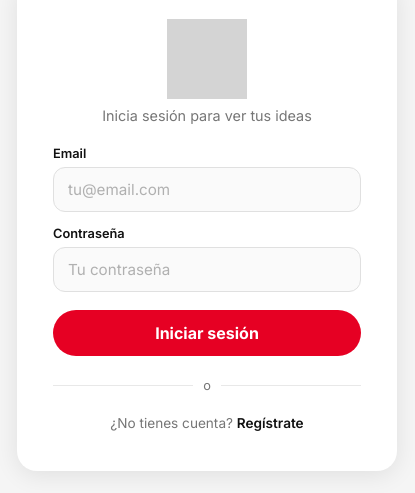
it: LoginForm › deshabilita el botón mientras loading es true
Type "test@example.com" into the field labelled "Email". click: (207, 190)
box: [53, 167, 361, 212]
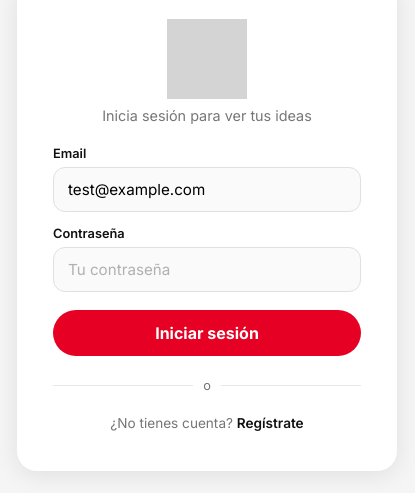
Type "password123" into the password field labelled "Contraseña". click: (207, 270)
box: [53, 247, 361, 292]
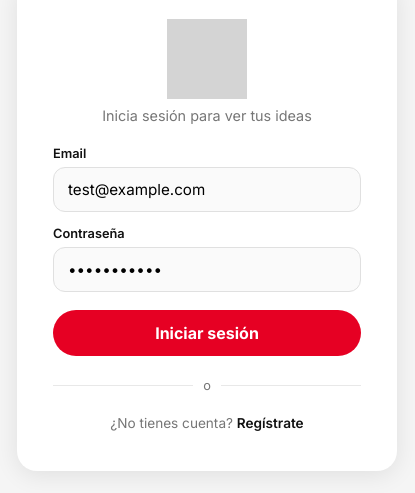
Click the button "Iniciar sesión". click: (207, 333)
box: [53, 310, 361, 356]
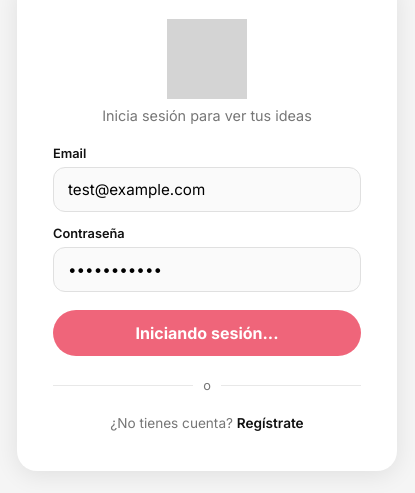
Expected: the button is disabled, [53, 310, 361, 356]
